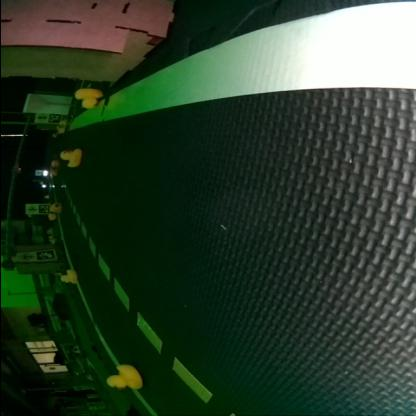Duckie: (104, 364, 140, 390), (73, 88, 100, 108), (57, 148, 79, 166), (59, 270, 73, 282), (49, 204, 57, 212), (46, 214, 54, 220), (50, 160, 57, 166)
Intersection sign: (16, 253, 32, 260), (25, 204, 35, 212)
QR code: (34, 250, 52, 260), (47, 114, 60, 123), (38, 204, 48, 212)
Signal sign: (35, 113, 45, 121)
